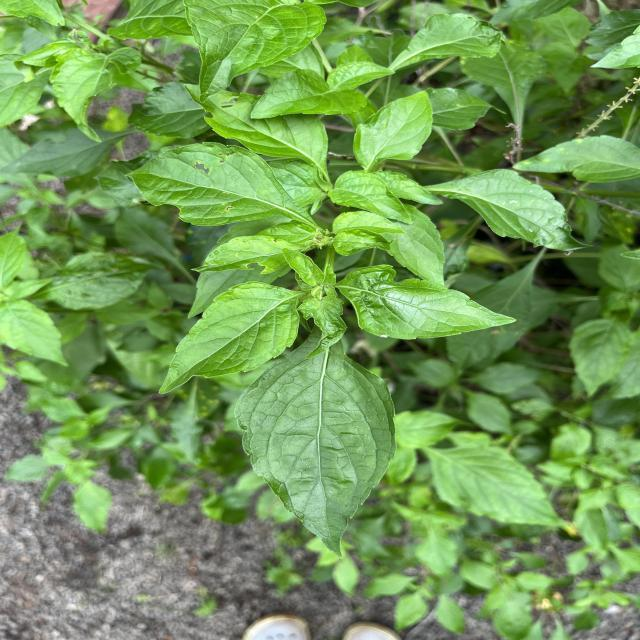Ocimum gratissimum: (232, 329, 402, 562), (121, 138, 322, 230), (156, 279, 301, 396), (184, 0, 328, 107), (336, 261, 521, 343), (426, 167, 596, 252), (47, 42, 145, 147), (383, 12, 507, 76), (349, 88, 436, 172), (244, 66, 374, 121), (328, 166, 414, 226)
